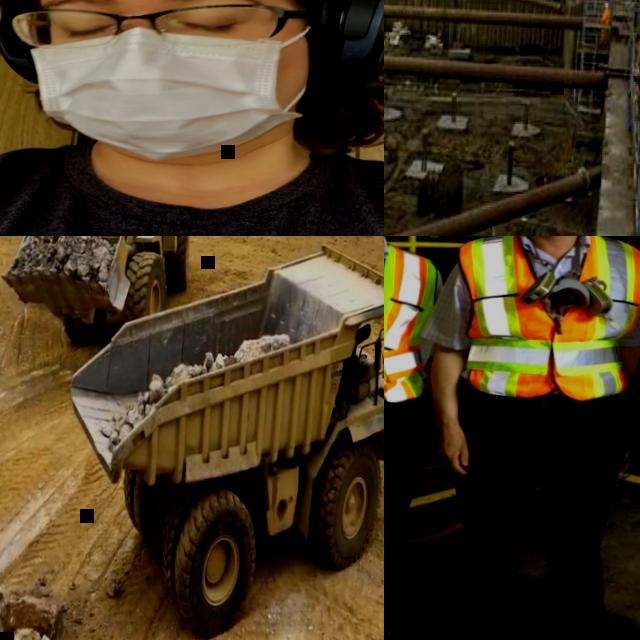Hardhat: (605, 3, 610, 9)
Mask: (18, 18, 316, 159)
NO-Safety Vest: (0, 132, 384, 236)
Person: (406, 236, 640, 640), (0, 0, 384, 236), (384, 236, 457, 640)
Safety Vest: (449, 236, 640, 403), (384, 239, 438, 424), (600, 2, 613, 50), (604, 9, 611, 25)
machinery: (54, 236, 384, 640), (0, 236, 197, 363)
